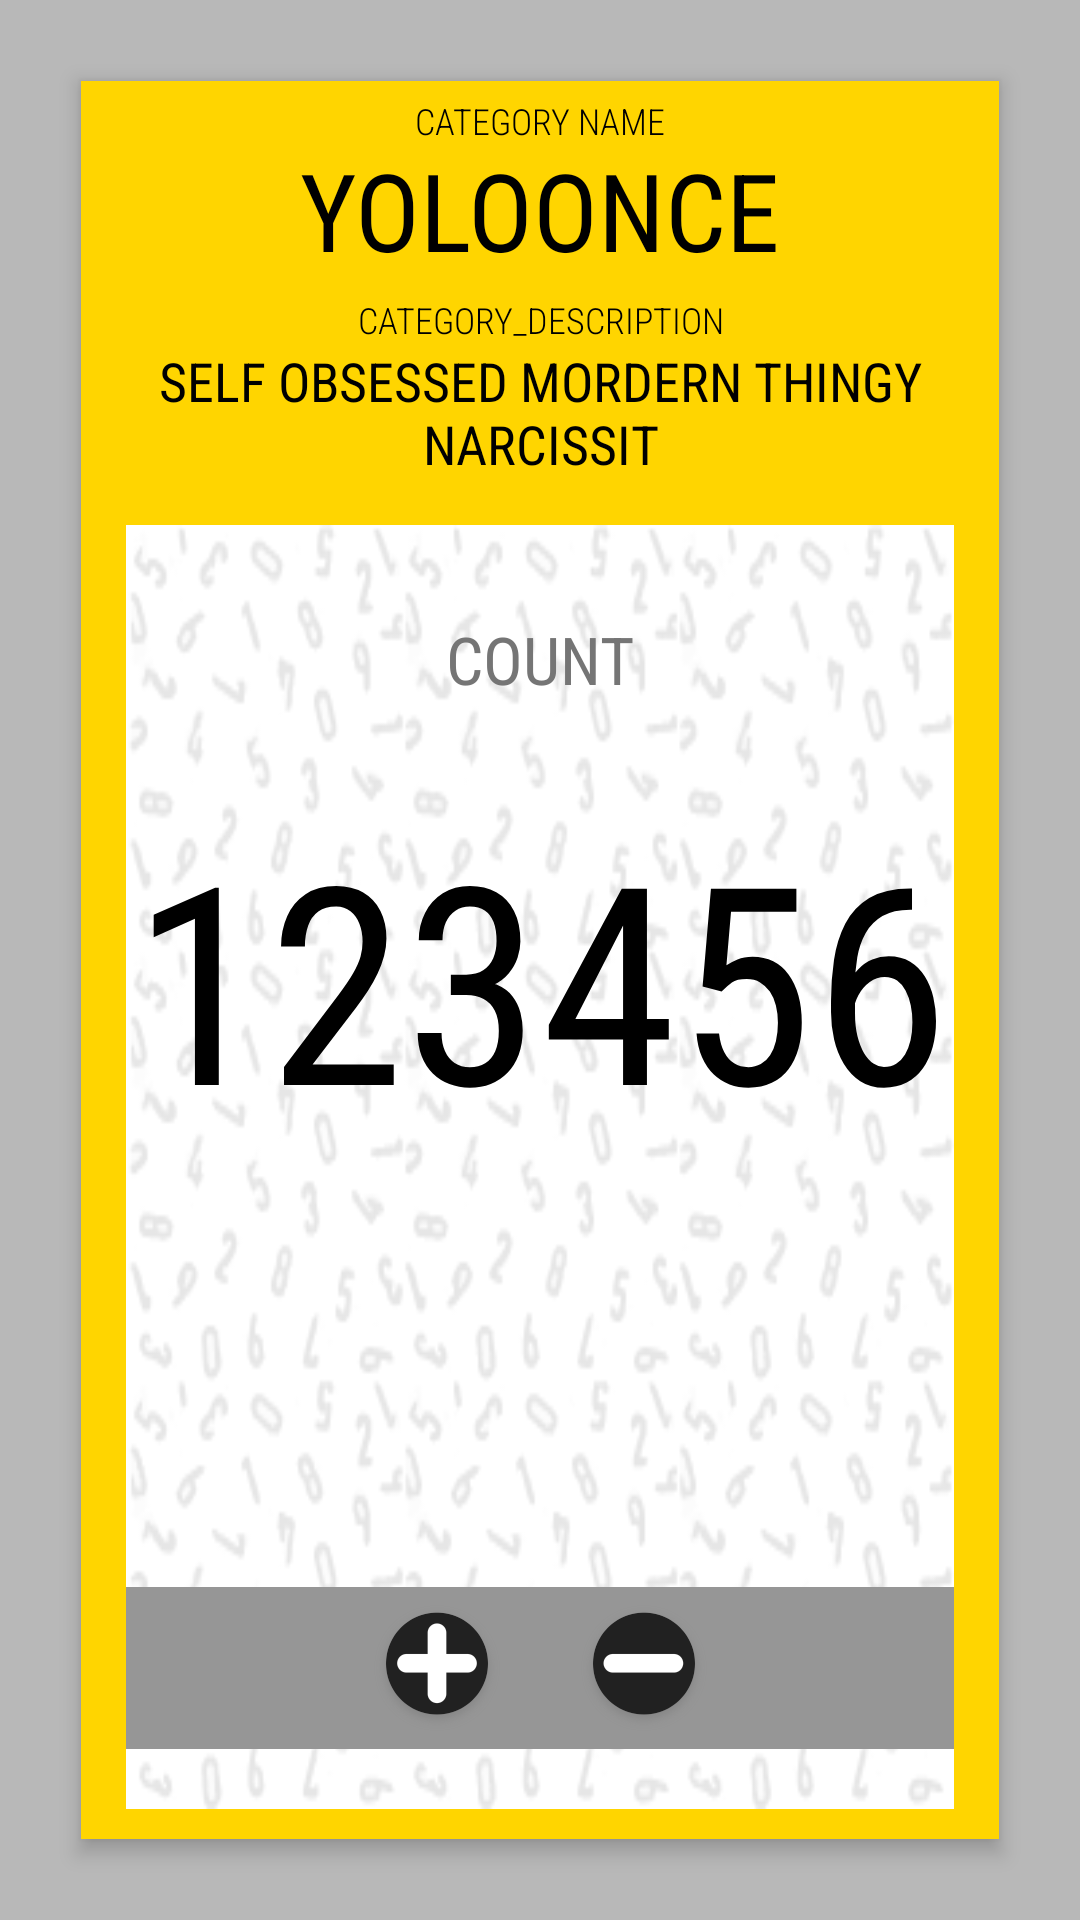

Point at icon controls on the screen. Image size 1080 x 1920, points as (x=x, y=y).
minus: (x=644, y=1663)
plus: (x=437, y=1663)
